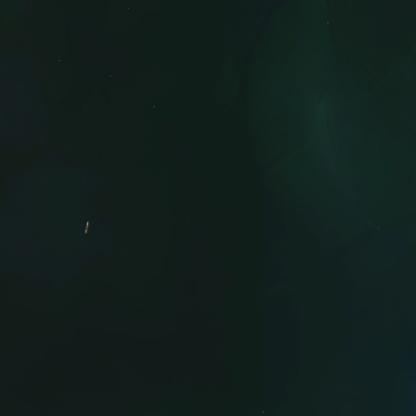ship: (79, 213, 91, 237)
